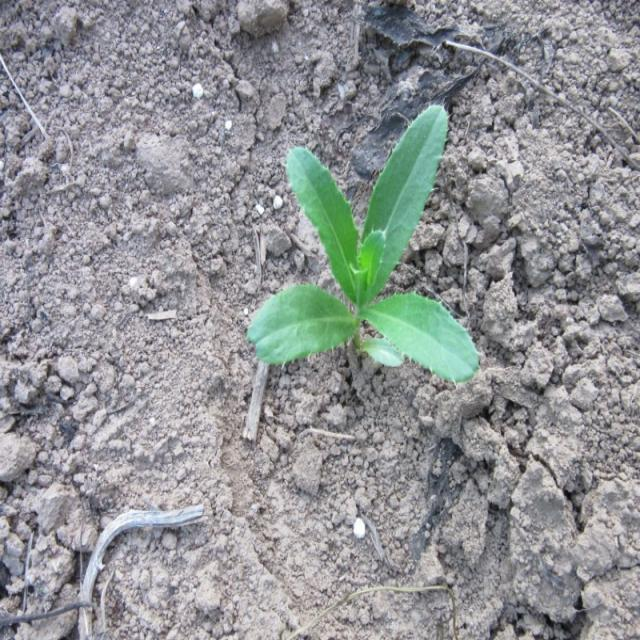cs: (246, 98, 485, 392)
